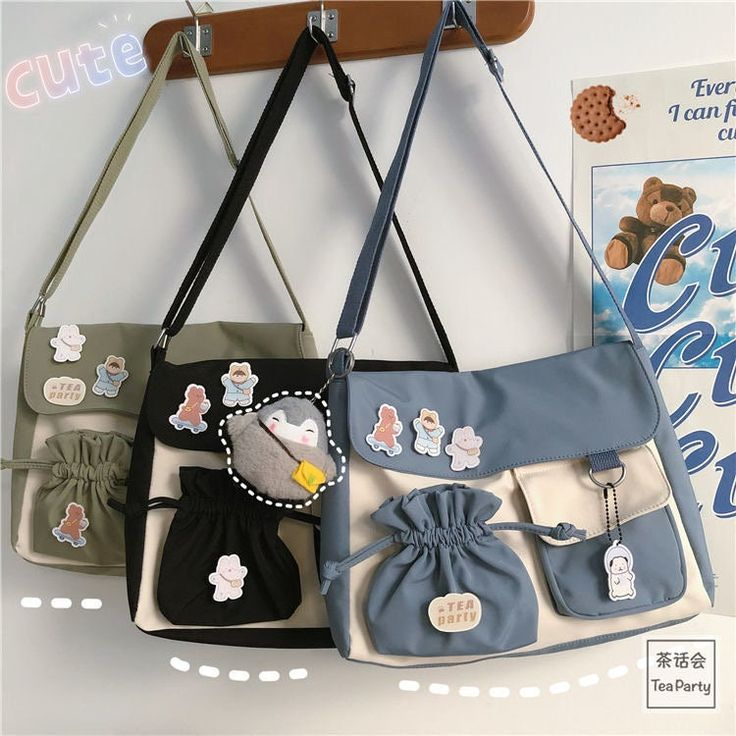nylon: (14, 1, 714, 670)
